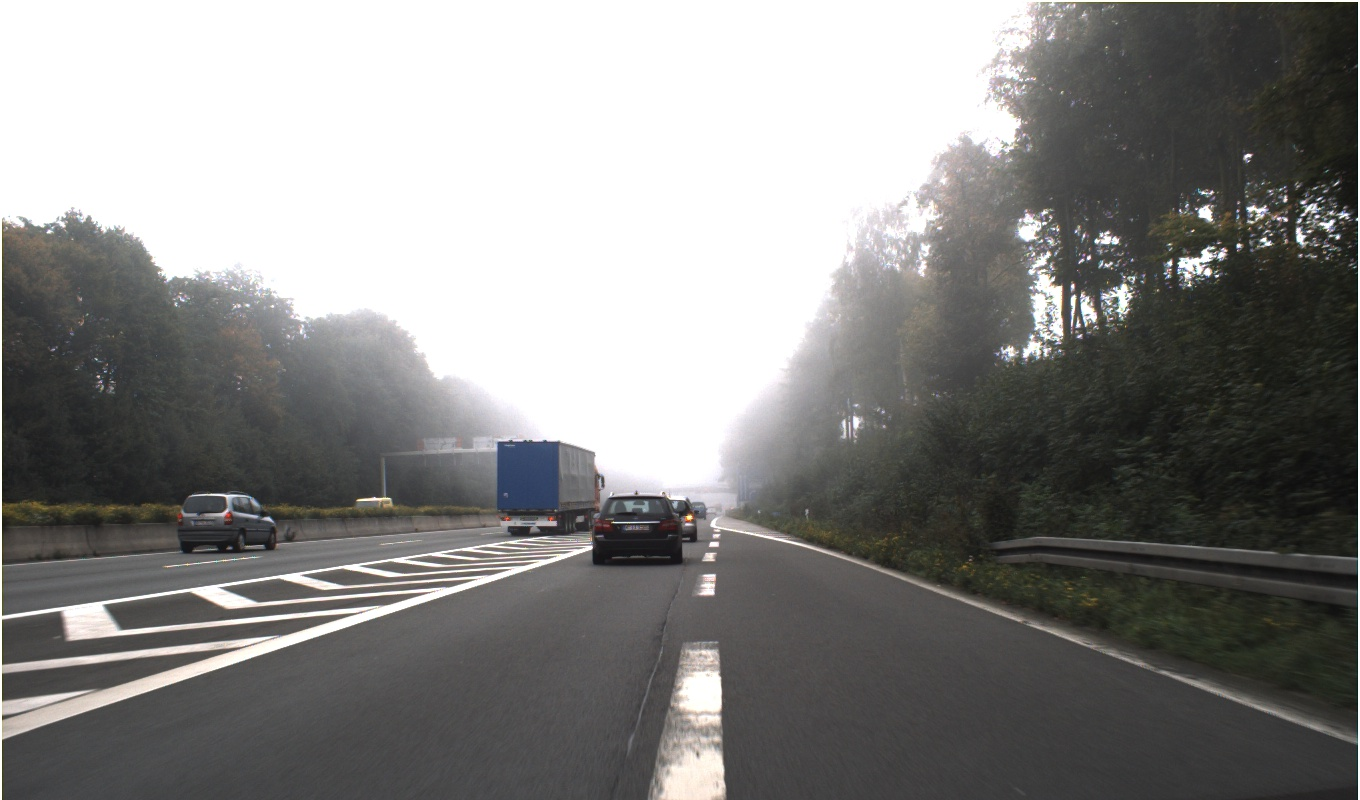car: (489, 427, 589, 549), (167, 483, 311, 565), (604, 483, 678, 604), (350, 483, 422, 524), (691, 468, 722, 541), (665, 473, 695, 545), (684, 456, 709, 525)
